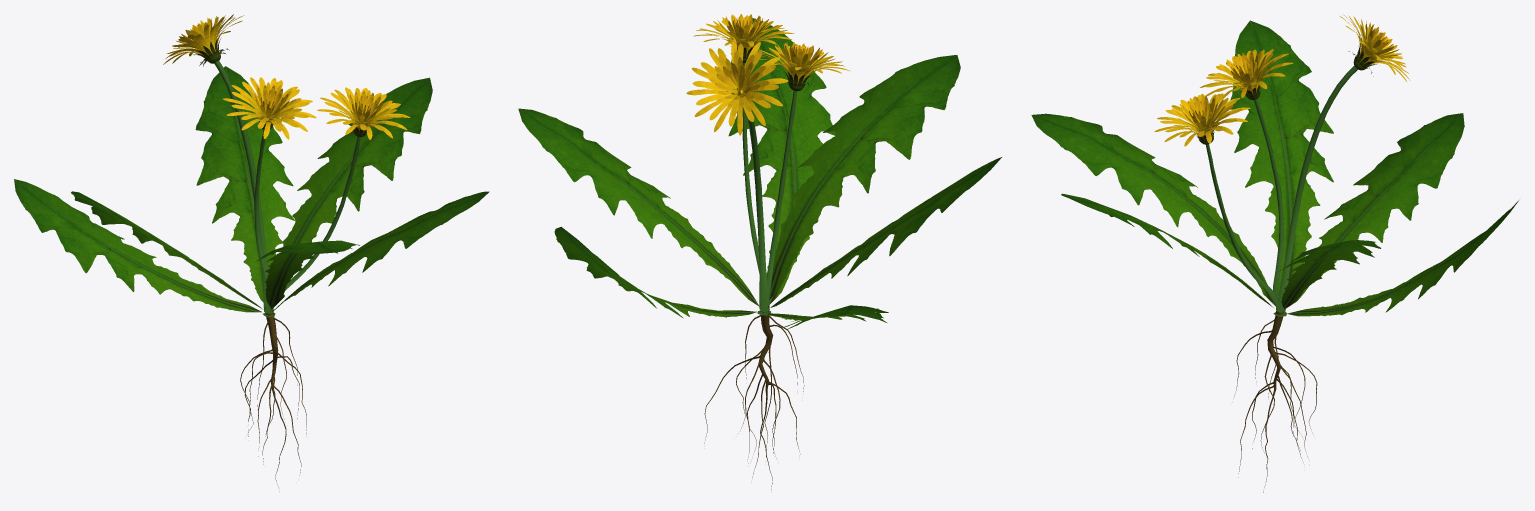
File: Dandelion.FBX
The picture shows the model from 3 angles, left to right: view 1: azimuth 30°, elevation 25°; view 2: azimuth 150°, elevation 25°; view 3: azimuth 270°, elevation 25°; orthographic projection. The views are drawn at different scales.
Visible parts, largest first — view 1: Dandelion; view 2: Dandelion; view 3: Dandelion.
Boxes of the visible parts, box(x1,y1,x2,y2) form: Dandelion: box(14, 14, 489, 487); Dandelion: box(518, 14, 1001, 489); Dandelion: box(1031, 14, 1518, 492).
Bounding box in the file's own units: 37.37 × 40.52 × 38.3.
2 materials, 2 textured.
